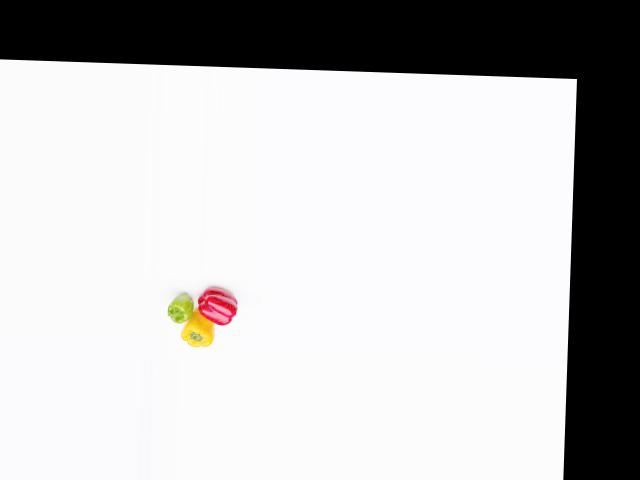bell_pepper: (160, 291, 195, 326)
